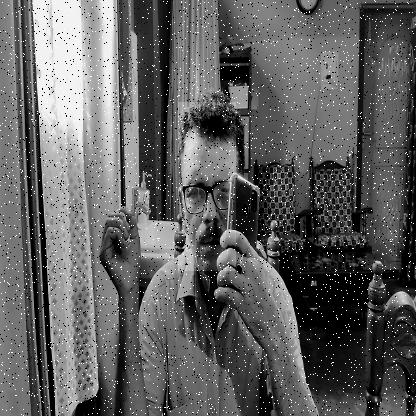Normal: (178, 102, 236, 271)
